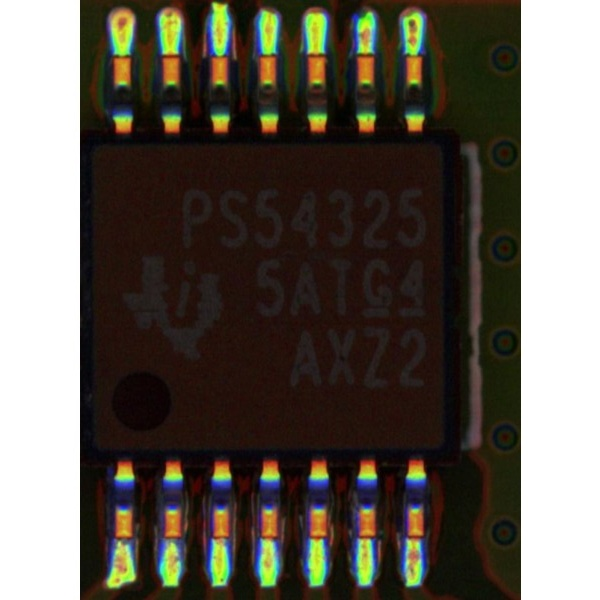Bad_podu: (310, 34, 320, 69), (361, 524, 370, 558), (408, 527, 417, 554)
